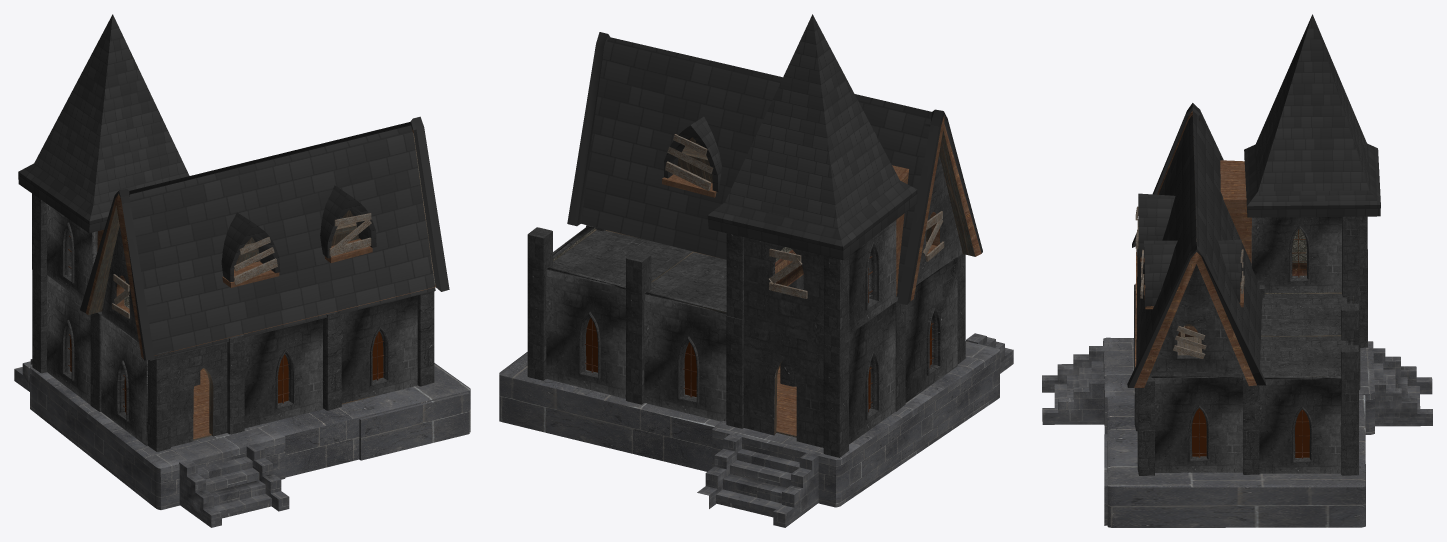
3 views of the same model, side by side, from view 1: azimuth 30°, elevation 25°; view 2: azimuth 150°, elevation 25°; view 3: azimuth 270°, elevation 25° (orthographic). The views are drawn at different scales.
Parts seen in each view (by area): view 1: house; view 2: house; view 3: house.
Part boxes in pixels (bbox=[...]): house: bbox=[14, 14, 470, 527]; house: bbox=[499, 14, 1013, 527]; house: bbox=[1042, 14, 1432, 527].
Size of what is drawn, in the model's own units: 20.15 by 24.59 by 22.16.
Materials: 11 (10 with a texture image).
